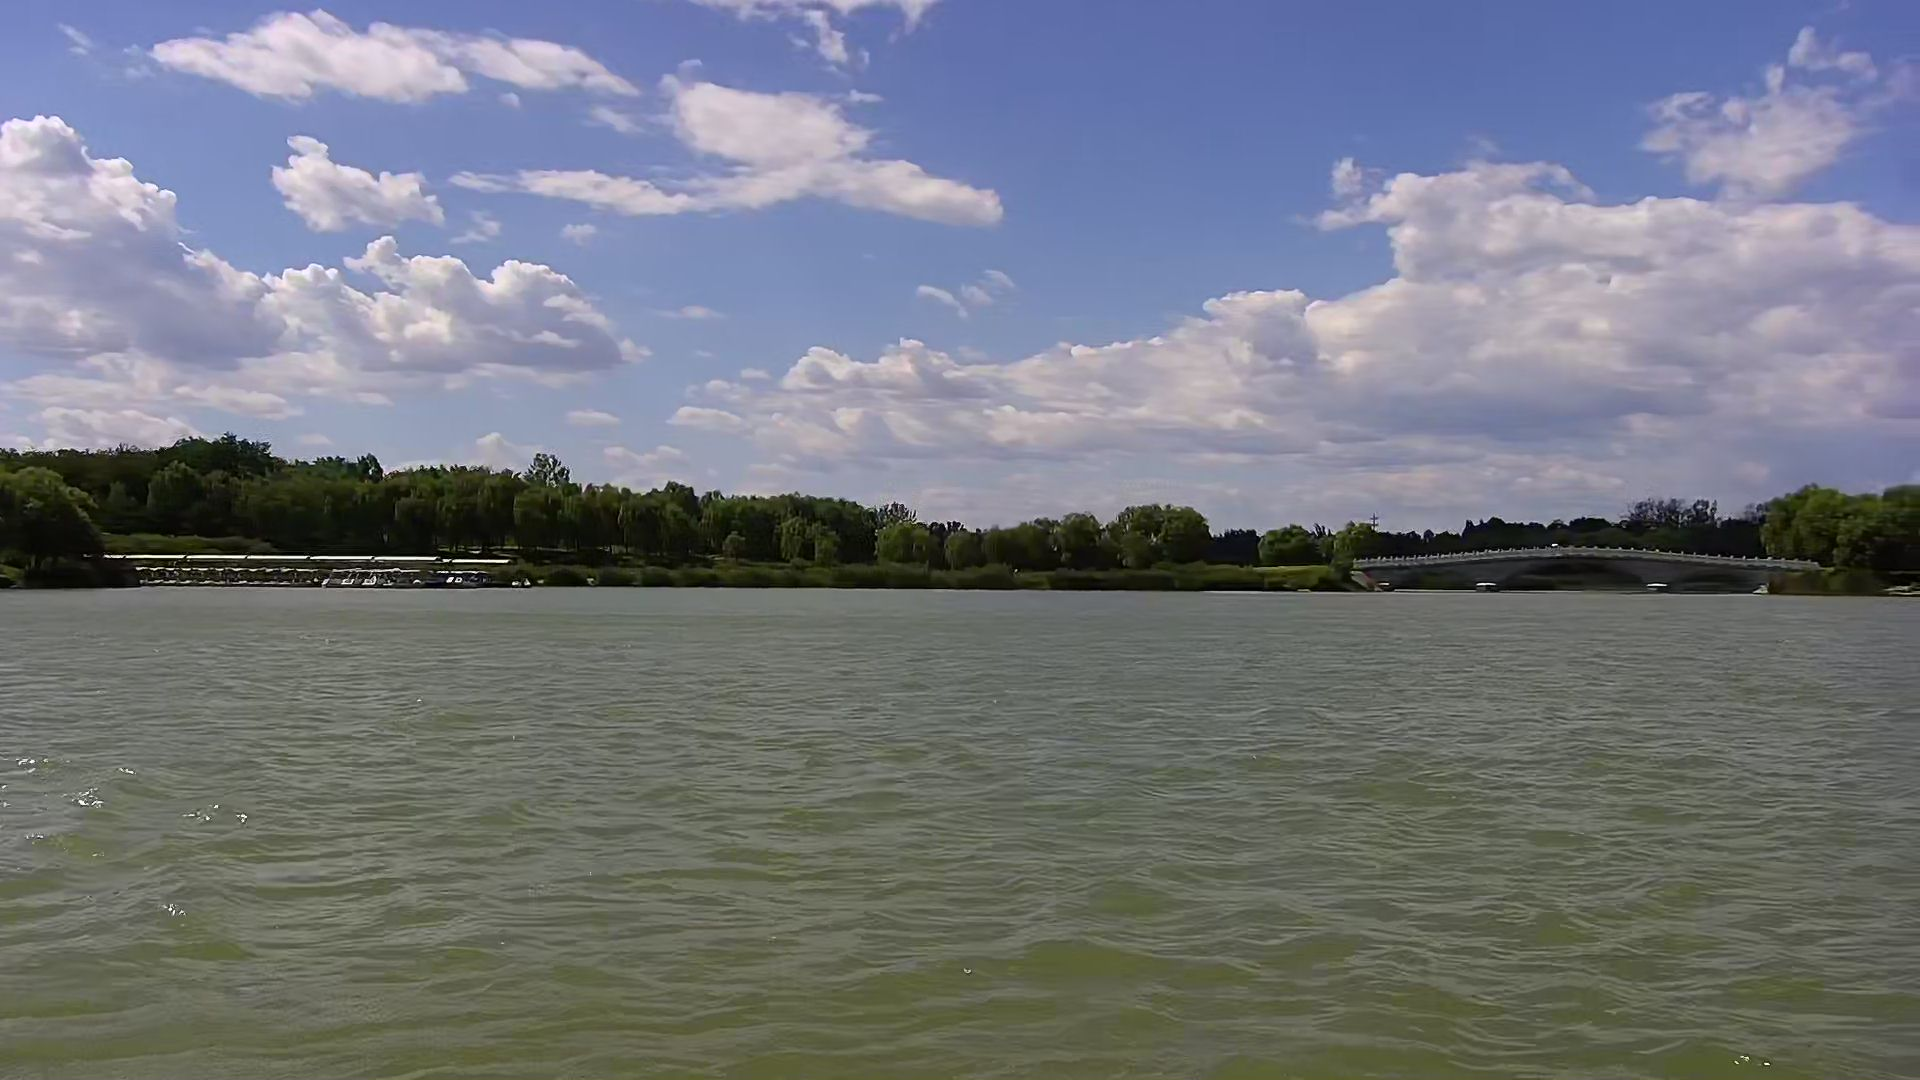bridge: (1352, 549, 1818, 603)
harbor: (109, 551, 516, 592)
